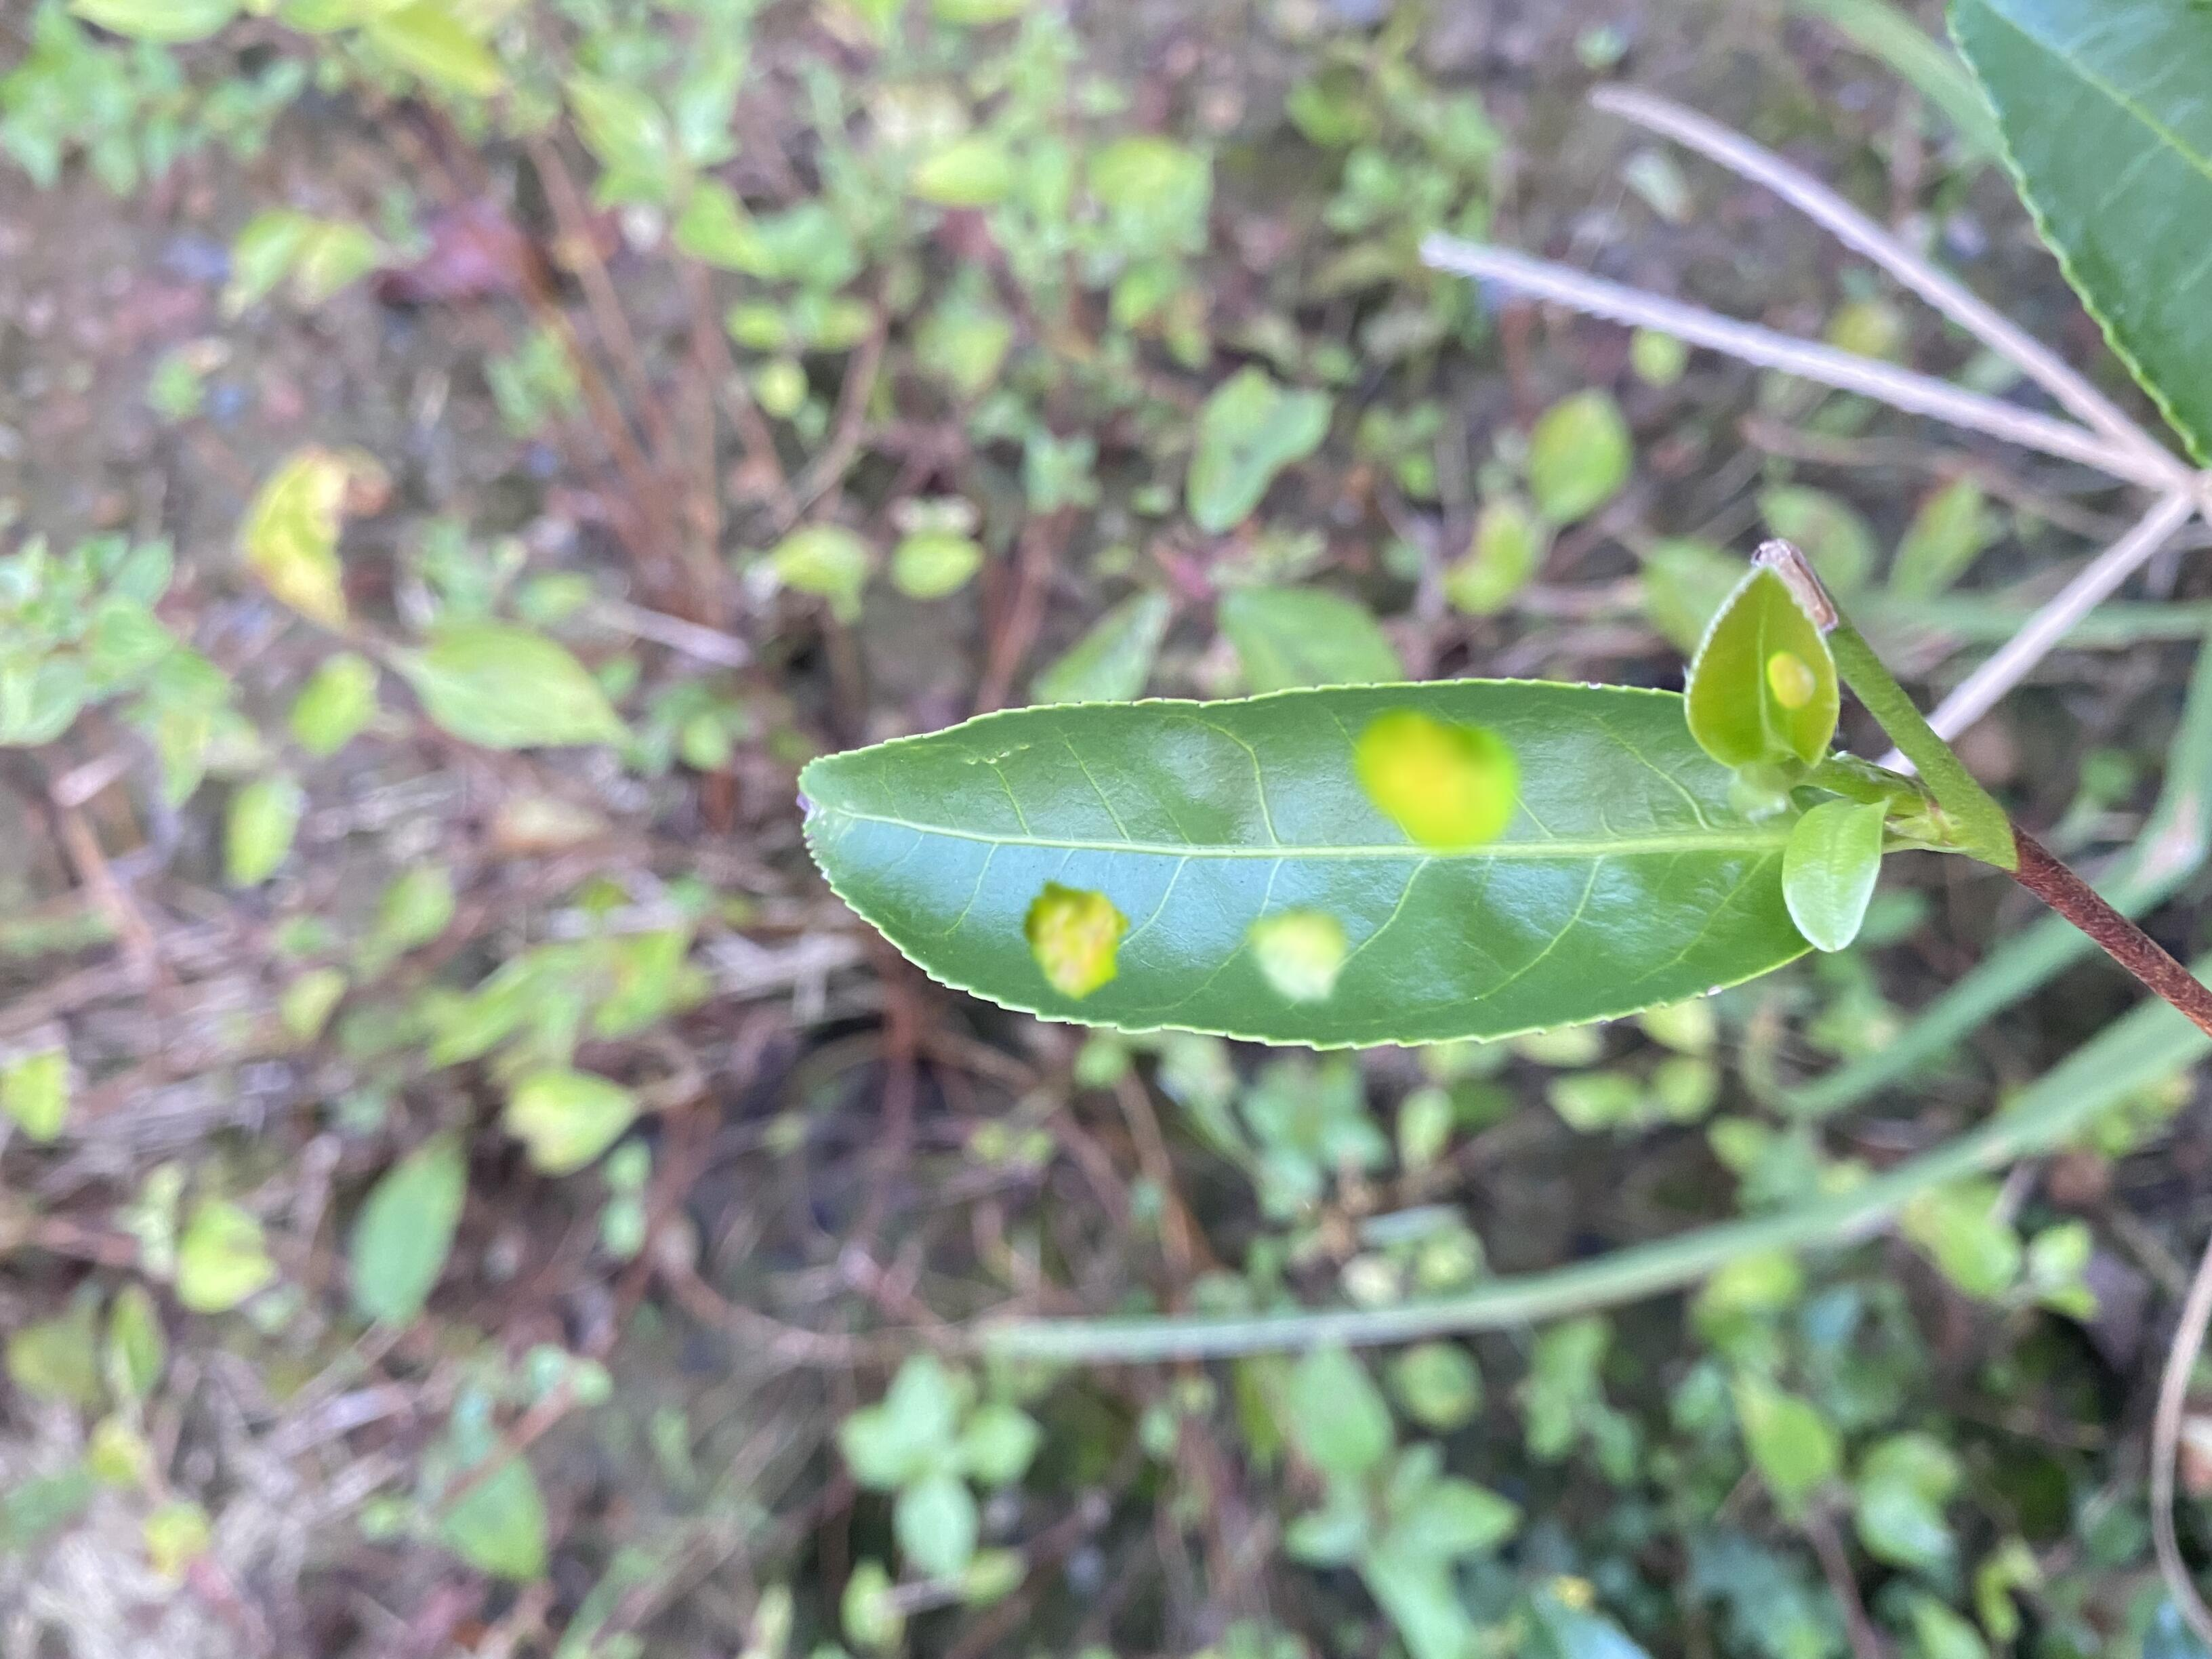chabing_high: (792, 678, 1834, 1056)
chabing_low: (1686, 568, 1843, 770)
healthy: (1784, 795, 1895, 950)
